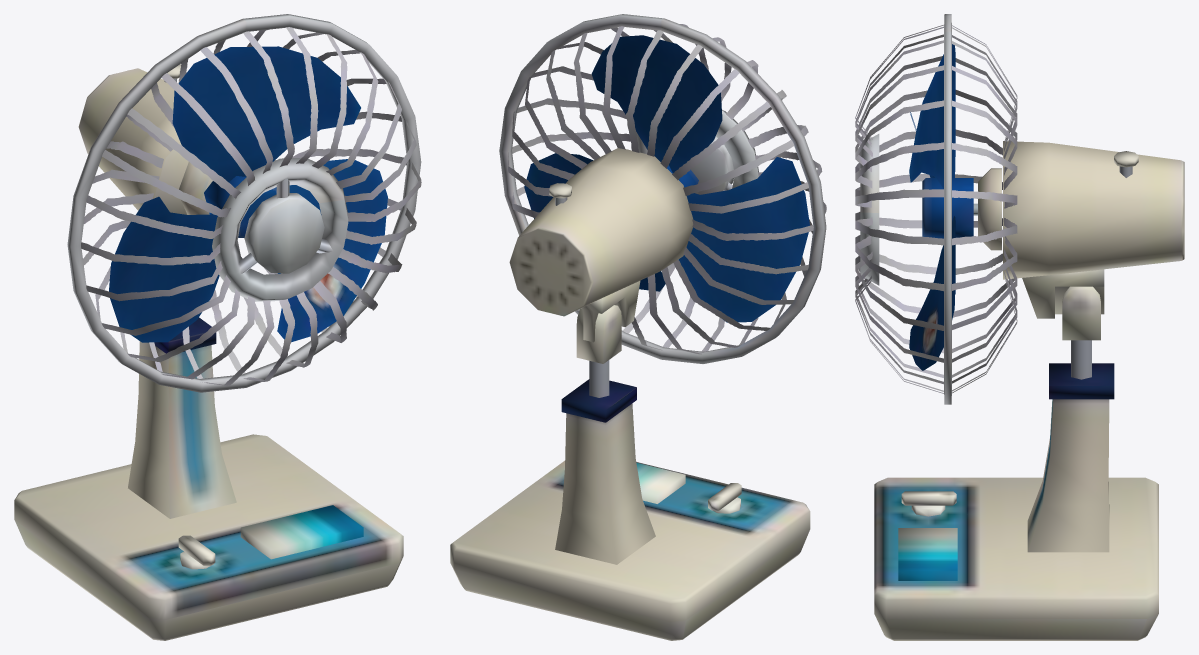
The picture shows the model from 3 angles, left to right: view 1: azimuth 30°, elevation 25°; view 2: azimuth 150°, elevation 25°; view 3: azimuth 270°, elevation 25°; orthographic projection. The views are drawn at different scales.
Bounding box in the file's own units: 7.01 × 10.91 × 5.88.
Materials: 2 (2 with a texture image).
